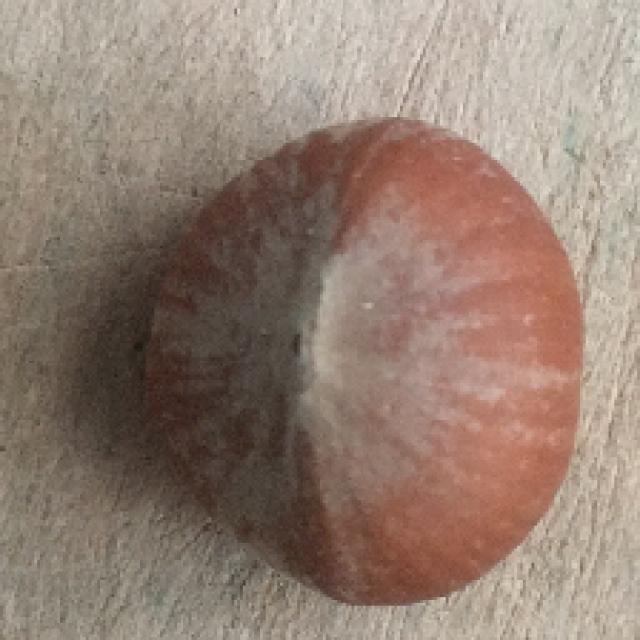qualityHazelnut: (143, 111, 586, 608)
